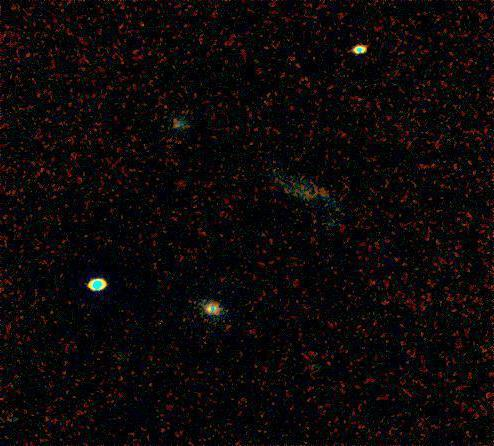star: (282, 195, 312, 225)
